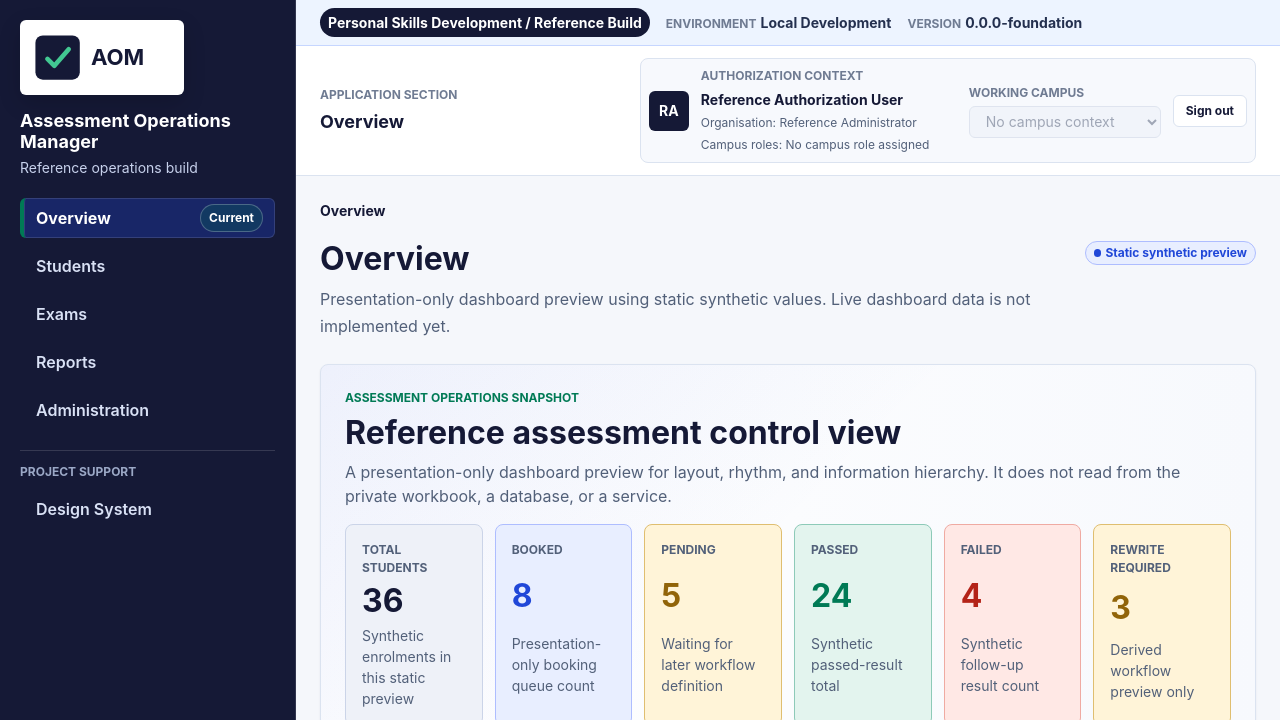
Test: application routing foundation › signs out from the application shell and returns to login with a signed-out notice
The width and height of the screenshot is (1280, 720).
Expected: the heading "Overview" is shown, [320,239,470,278]
Click the button "Sign out" at (1210, 110), box [1173,94,1247,126]
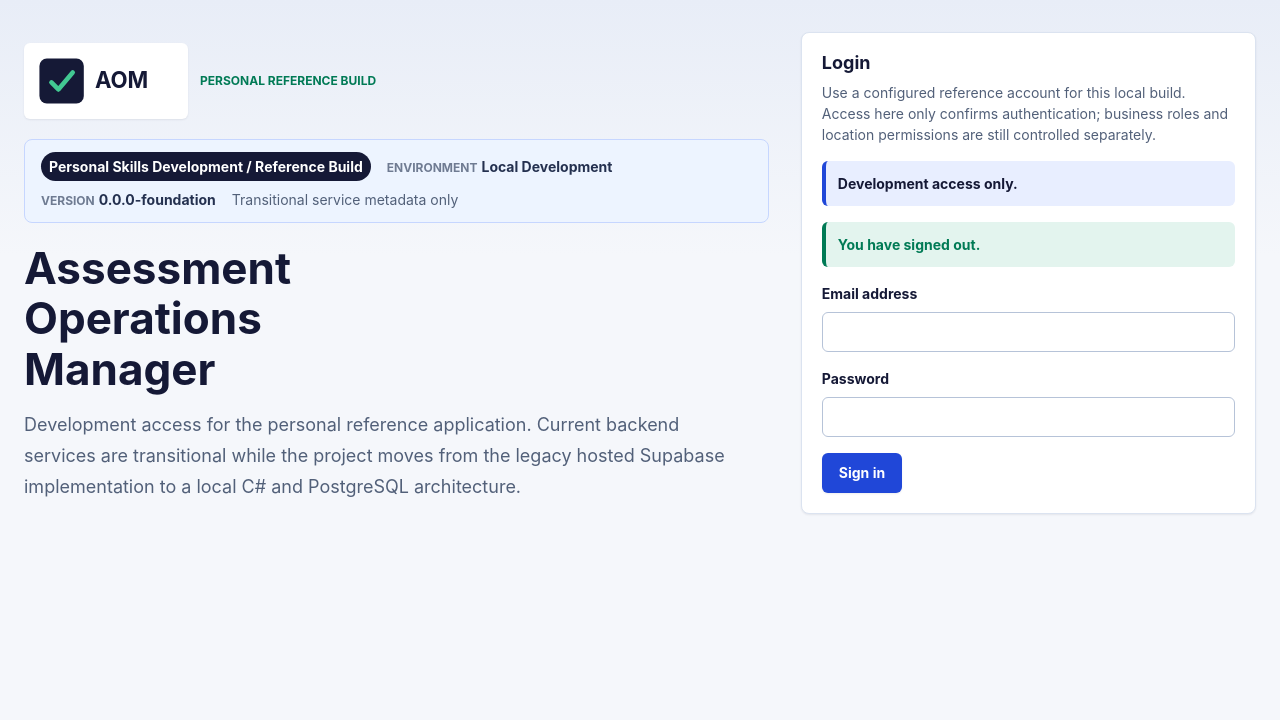
Expected: the heading "Assessment Operations Manager" is shown, [24,241,291,396]
Now the text "You have signed out." is shown, box [822,222,1235,267]
Now the link "Overview" is gone
